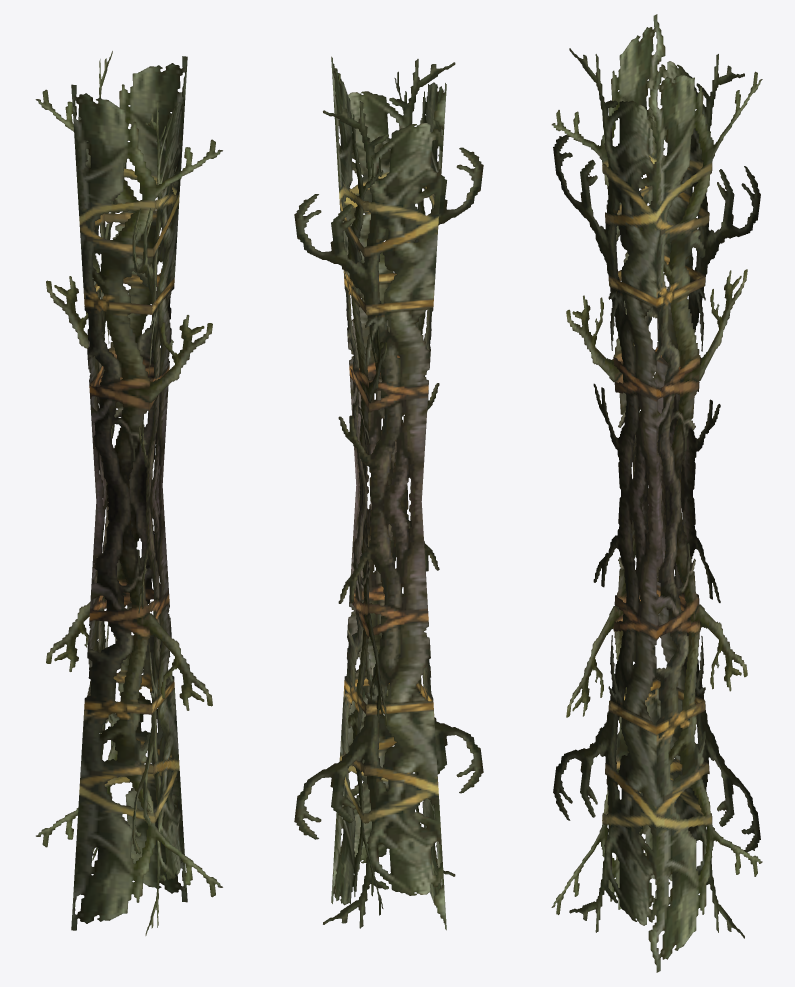
File: wc_stickbundle02.obj
The picture shows the model from 3 angles, left to right: view 1: azimuth 30°, elevation 25°; view 2: azimuth 150°, elevation 25°; view 3: azimuth 270°, elevation 25°; orthographic projection. The views are drawn at different scales.
Visible parts, largest first — view 1: wc_stickbundle02; view 2: wc_stickbundle02; view 3: wc_stickbundle02.
Part boxes in pixels (<box>): wc_stickbundle02: <box>35,51,222,935</box>; wc_stickbundle02: <box>294,56,483,930</box>; wc_stickbundle02: <box>551,14,762,972</box>.
Bounding box in the file's own units: 0.318 × 2.21 × 0.5535.
1 material, 1 textured.
